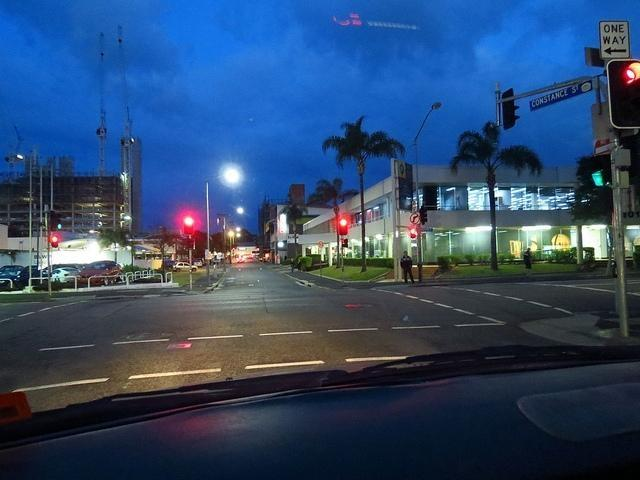car: (78, 261, 124, 288), (12, 264, 50, 289), (1, 264, 24, 287), (51, 267, 82, 283), (174, 262, 198, 272), (79, 264, 91, 270)
